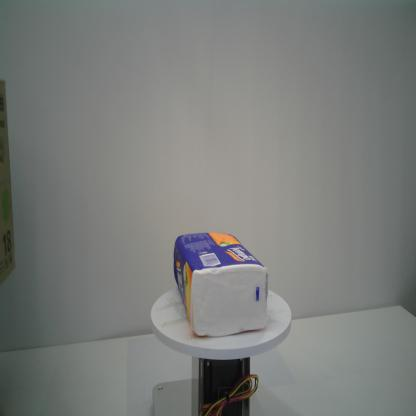Tissue: (173, 231, 270, 340)
